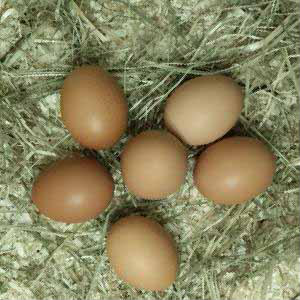egg: (192, 136, 276, 205), (165, 75, 245, 146), (61, 66, 128, 148), (108, 216, 178, 292), (31, 159, 114, 222), (120, 129, 189, 201)
